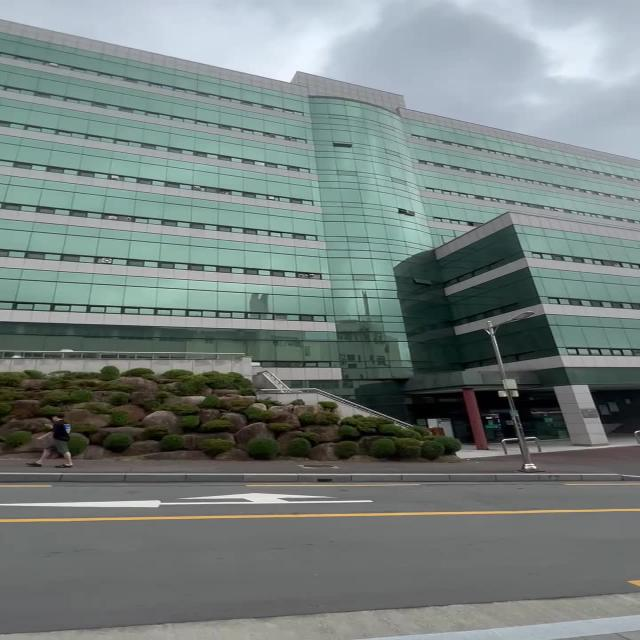building: (12, 29, 640, 361)
